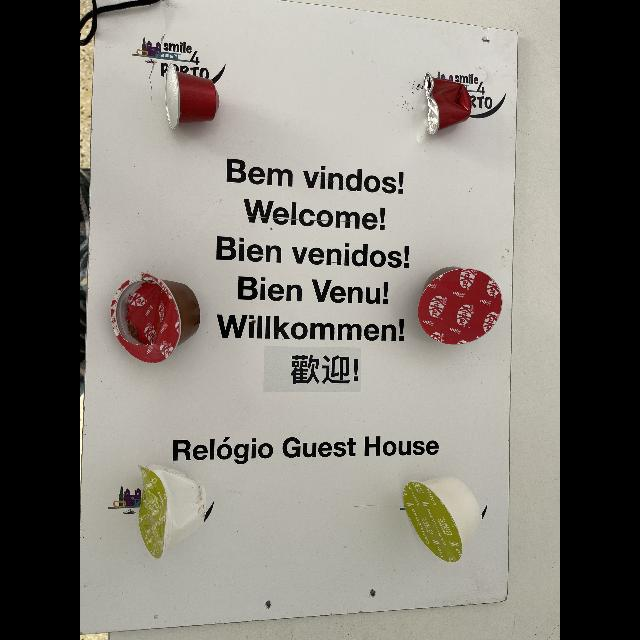damaged_capsule: (112, 274, 206, 366), (132, 460, 212, 560), (418, 70, 478, 142)
intact_capsule: (399, 472, 489, 570), (421, 262, 509, 348), (158, 68, 224, 128)
